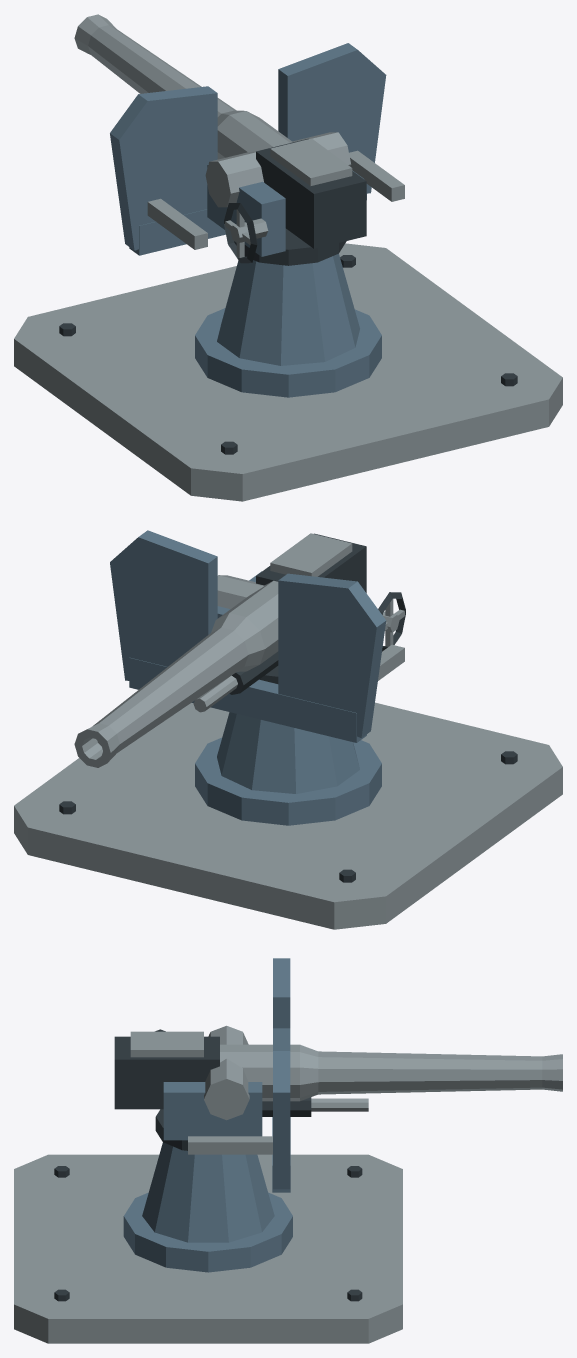
The model's file is MOD_BasicNavalGun_L1.fbx.
3 renders of one model, top to bottom at view 1: azimuth 30°, elevation 25°; view 2: azimuth 150°, elevation 25°; view 3: azimuth 270°, elevation 25°, orthographic. The views are drawn at different scales.
Visible parts, largest first — view 1: MOD_BasicNavalGun_L1_Visual, TurretPivot_Visual, ElevationPivot_Visual; view 2: MOD_BasicNavalGun_L1_Visual, TurretPivot_Visual, ElevationPivot_Visual; view 3: MOD_BasicNavalGun_L1_Visual, ElevationPivot_Visual, TurretPivot_Visual.
Boxes of the visible parts, x1,y1,x2,y2 form: MOD_BasicNavalGun_L1_Visual: [14, 228, 562, 501]; TurretPivot_Visual: [110, 43, 404, 263]; ElevationPivot_Visual: [74, 14, 366, 248]; MOD_BasicNavalGun_L1_Visual: [14, 666, 562, 929]; TurretPivot_Visual: [110, 530, 405, 742]; ElevationPivot_Visual: [74, 533, 366, 767]; MOD_BasicNavalGun_L1_Visual: [14, 1109, 402, 1343]; ElevationPivot_Visual: [114, 1031, 562, 1116]; TurretPivot_Visual: [155, 958, 290, 1192].
Size of the model in its own units: 170 by 124 by 240.
